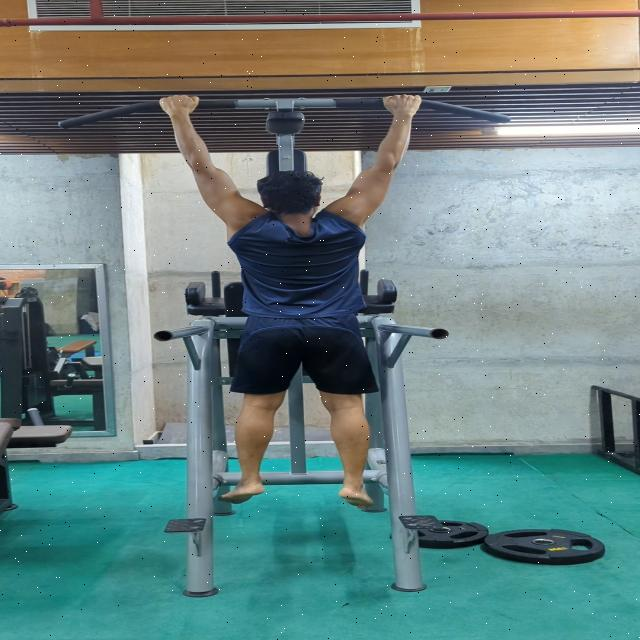Normal_PullUps: (147, 88, 436, 520)
